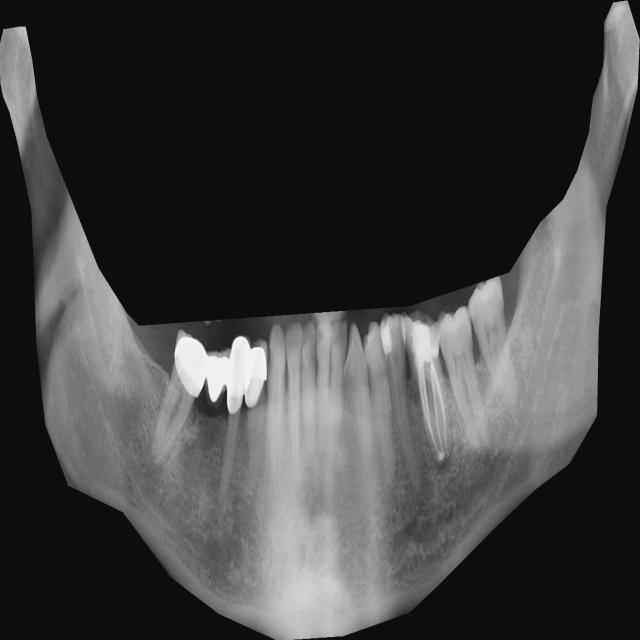mandibula: (0, 0, 640, 640)
